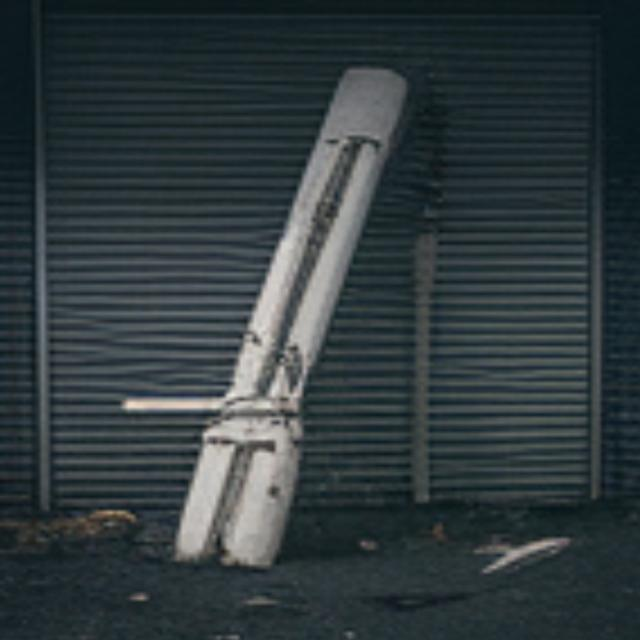Inclined Pole: (118, 64, 413, 575)
